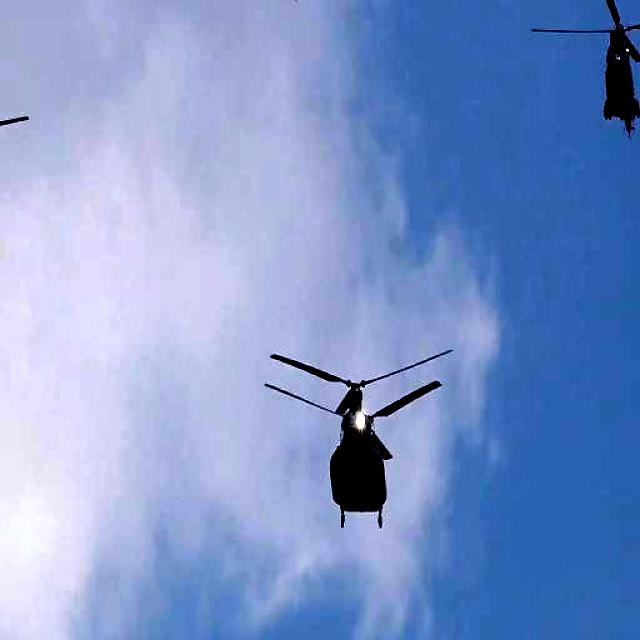drone: (264, 348, 452, 529), (526, 0, 640, 141)
